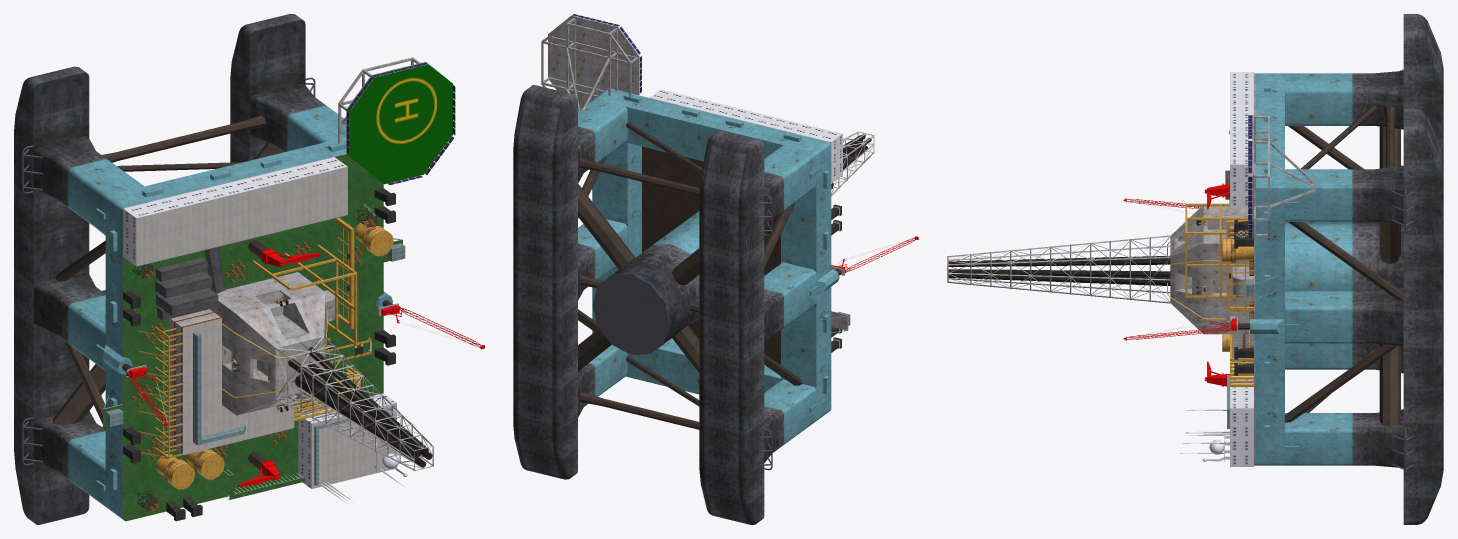
File: Oil-Rig.fbx
The picture shows the model from 3 angles, left to right: view 1: azimuth 30°, elevation 25°; view 2: azimuth 150°, elevation 25°; view 3: azimuth 270°, elevation 25°; orthographic projection. The views are drawn at different scales.
Visible parts, largest first — view 1: Oil Rig; view 2: Oil Rig; view 3: Oil Rig.
Boxes of the visible parts, x1,y1,x2,y2 form: Oil Rig: (14,14,484,524); Oil Rig: (513,14,918,524); Oil Rig: (947,14,1443,524).
Size of the model in its own units: 367348 by 440426 by 490353.
